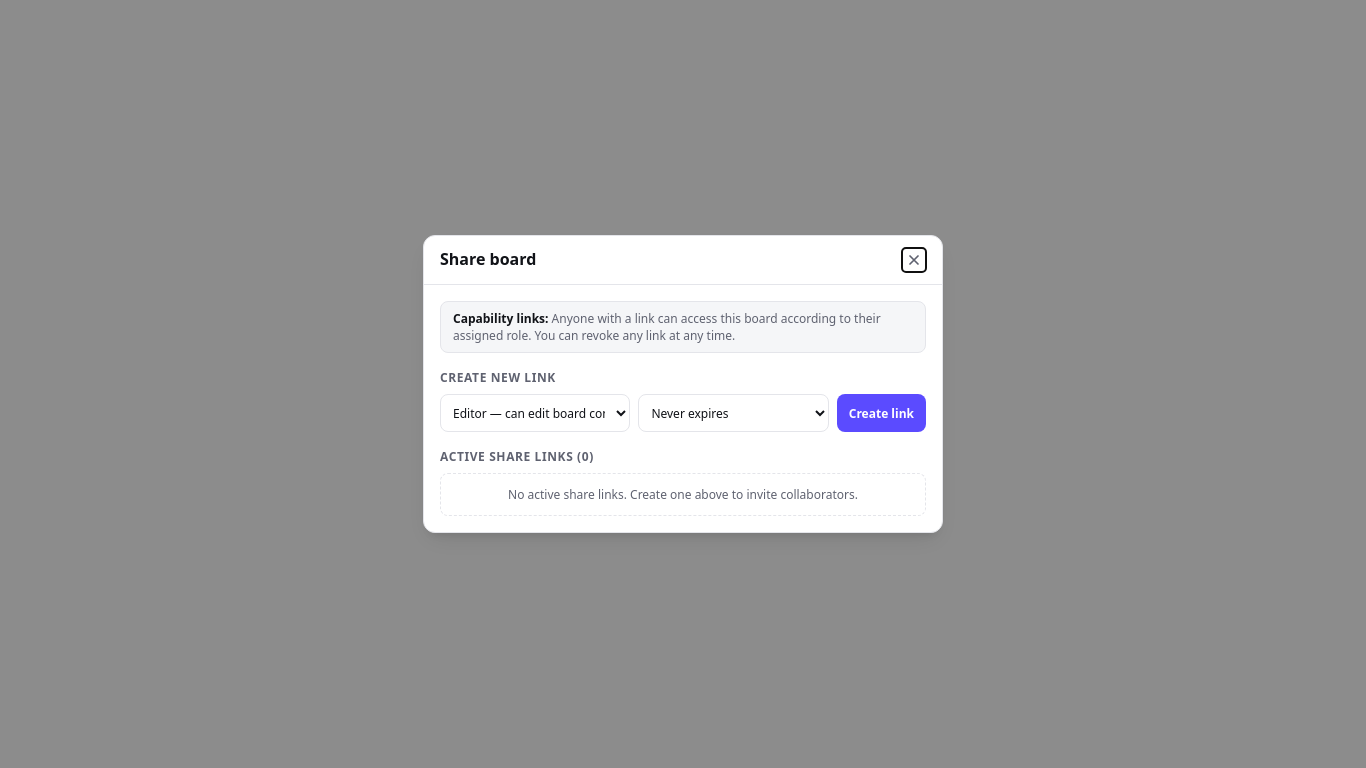
Client Collaboration and Presence UI › ShareModal › renders modal dialog and handles role selection and link creation
Expected: the dialog with test id "share-modal" is shown, [423, 235, 943, 533]
Expected: the text with test id "no-share-links" is shown, [440, 473, 926, 516]
Note: Change role to 'commenter'
Select "Commenter — can view and add comments" in the dropdown with test id "share-role-select" at (535, 413), box [440, 394, 630, 432]
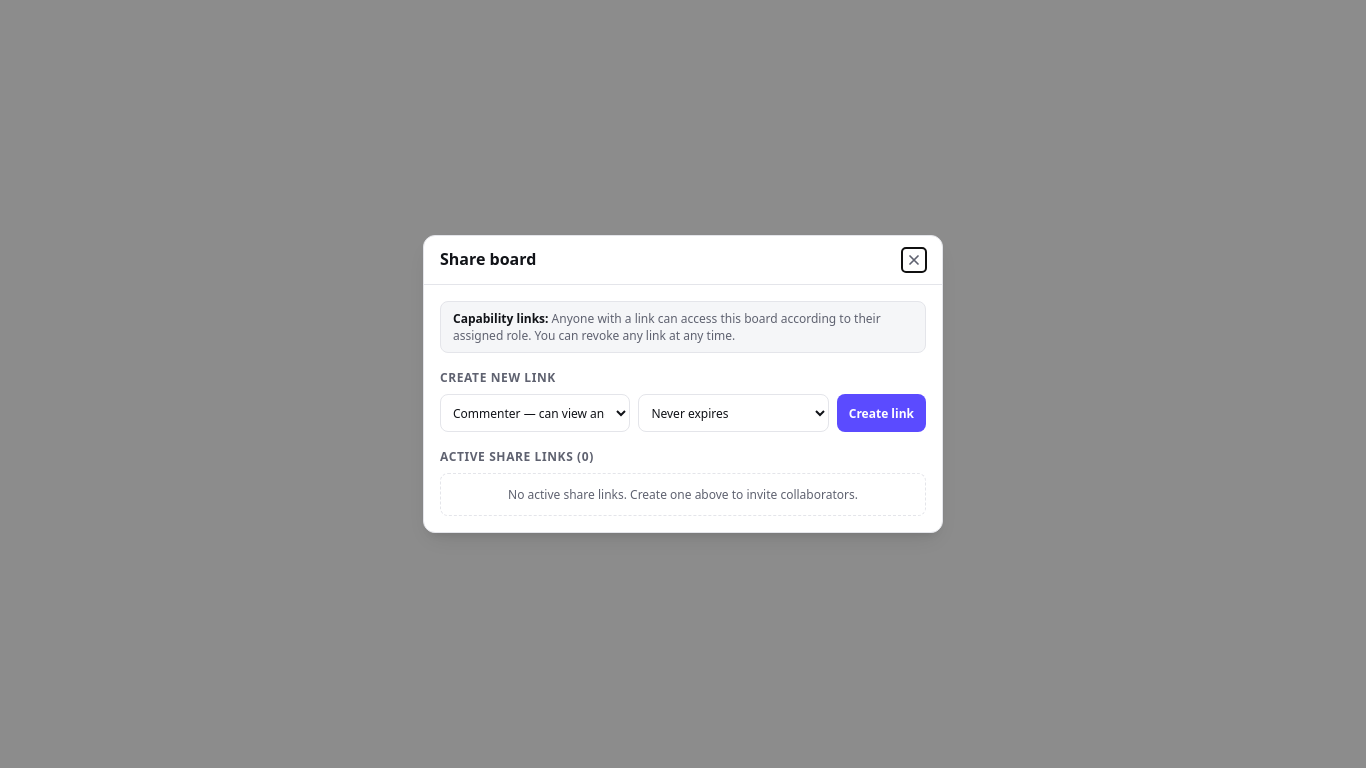
Note: Click create link
Click the button with test id "create-link-button" at (881, 413), box [837, 394, 926, 432]
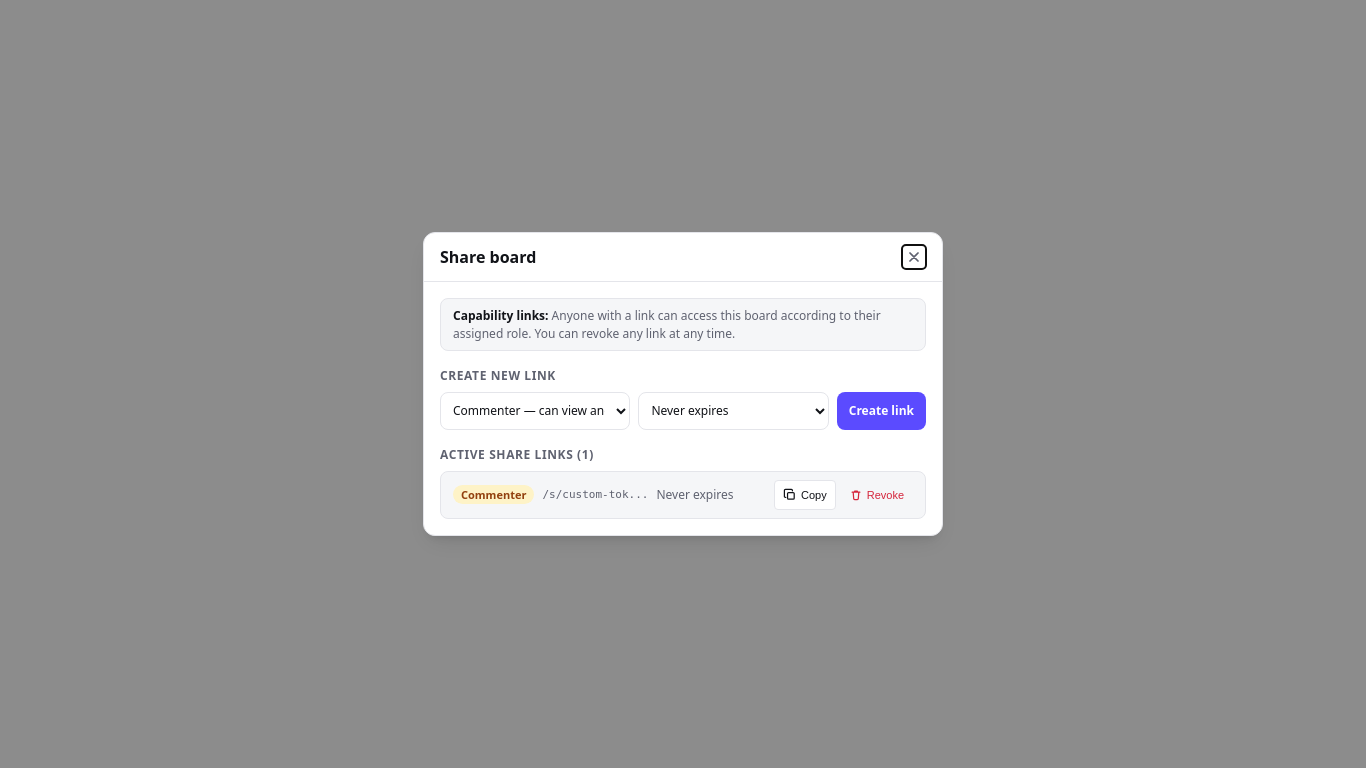
Now the text with test id "share-link-role-custom-token-123" reads "commenter", box [461, 487, 526, 502]
Now the text "/s/custom-tok..." is shown, box [542, 488, 648, 501]
